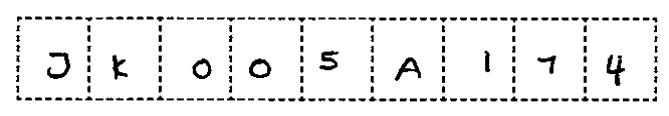0: (242, 51, 279, 86), (184, 53, 218, 85)
1: (471, 44, 504, 78)
4: (599, 49, 633, 93)
5: (314, 44, 343, 78)
7: (530, 46, 563, 84)
A: (388, 55, 427, 87)
J: (39, 46, 78, 84)
K: (103, 49, 138, 82)
